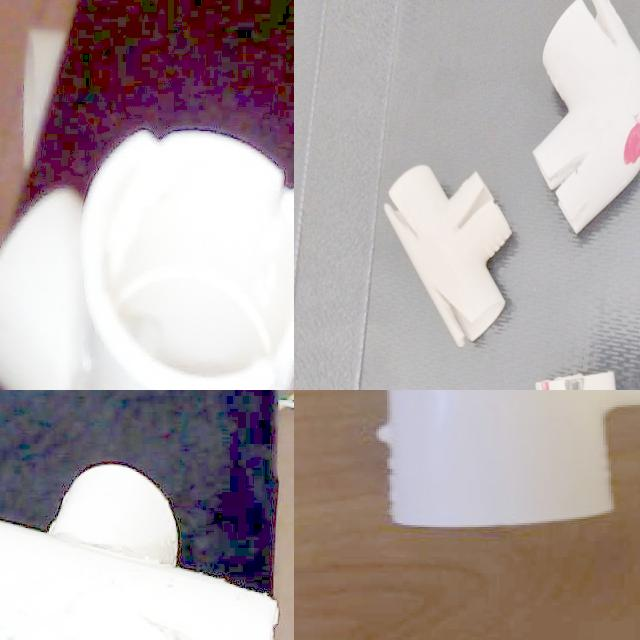Defective: (132, 580, 274, 640), (307, 315, 357, 361), (492, 336, 533, 390), (419, 332, 459, 364), (500, 259, 526, 296)
L Joint: (377, 390, 640, 530), (294, 274, 369, 390)
T Joint: (0, 129, 294, 390), (0, 467, 279, 640), (412, 246, 556, 390), (561, 1, 640, 32)
